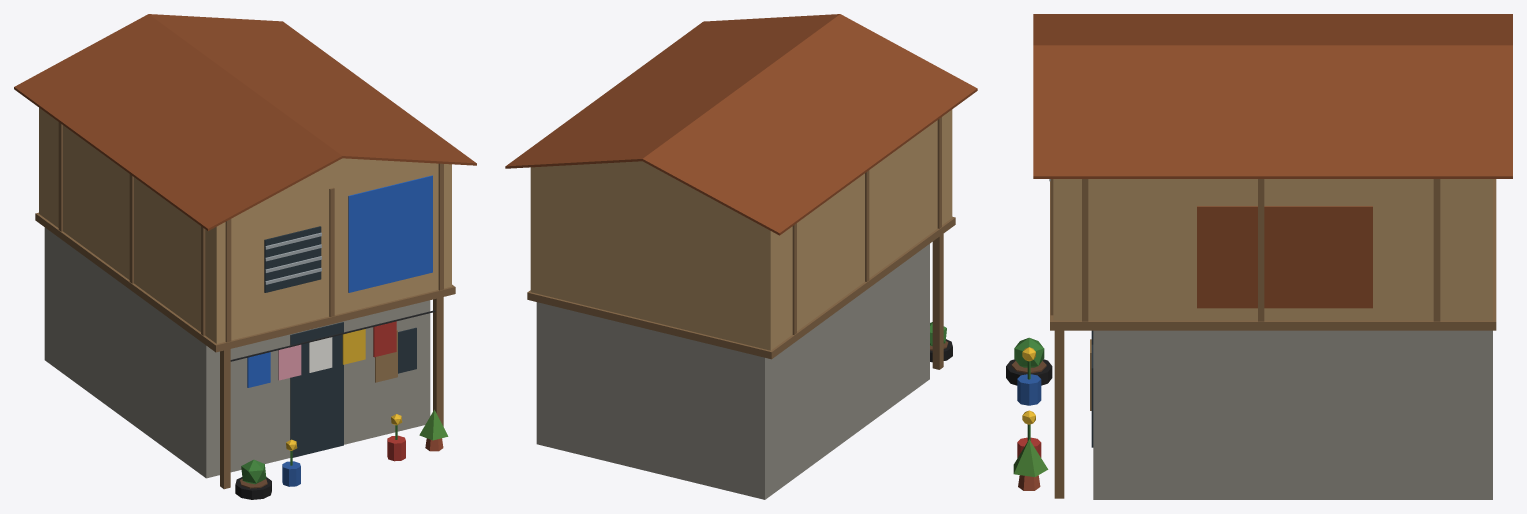
Rendered from BAY_I_Shanty2F_M.glb.
The picture shows the model from 3 angles, left to right: view 1: azimuth 30°, elevation 25°; view 2: azimuth 150°, elevation 25°; view 3: azimuth 270°, elevation 25°; orthographic projection. The views are drawn at different scales.
Parts seen in each view (by area): view 1: BAY_I_Shanty2F_M; view 2: BAY_I_Shanty2F_M; view 3: BAY_I_Shanty2F_M.
Boxes of the visible parts, left/top/right/bottom form: BAY_I_Shanty2F_M: left=14, top=14, right=476, bottom=499; BAY_I_Shanty2F_M: left=505, top=14, right=977, bottom=499; BAY_I_Shanty2F_M: left=1006, top=14, right=1512, bottom=499.
Bounding box in the file's own units: 4.8 × 5.34 × 6.34.
1 material, 1 textured.
